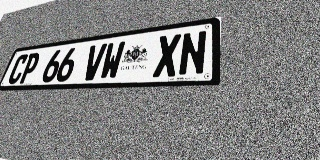6: (54, 47, 80, 82), (40, 49, 65, 83)
C: (6, 54, 30, 84)
N: (178, 30, 207, 76)
P: (18, 52, 42, 84)
V: (81, 43, 107, 81)
W: (98, 41, 126, 80)
X: (152, 33, 181, 77)
